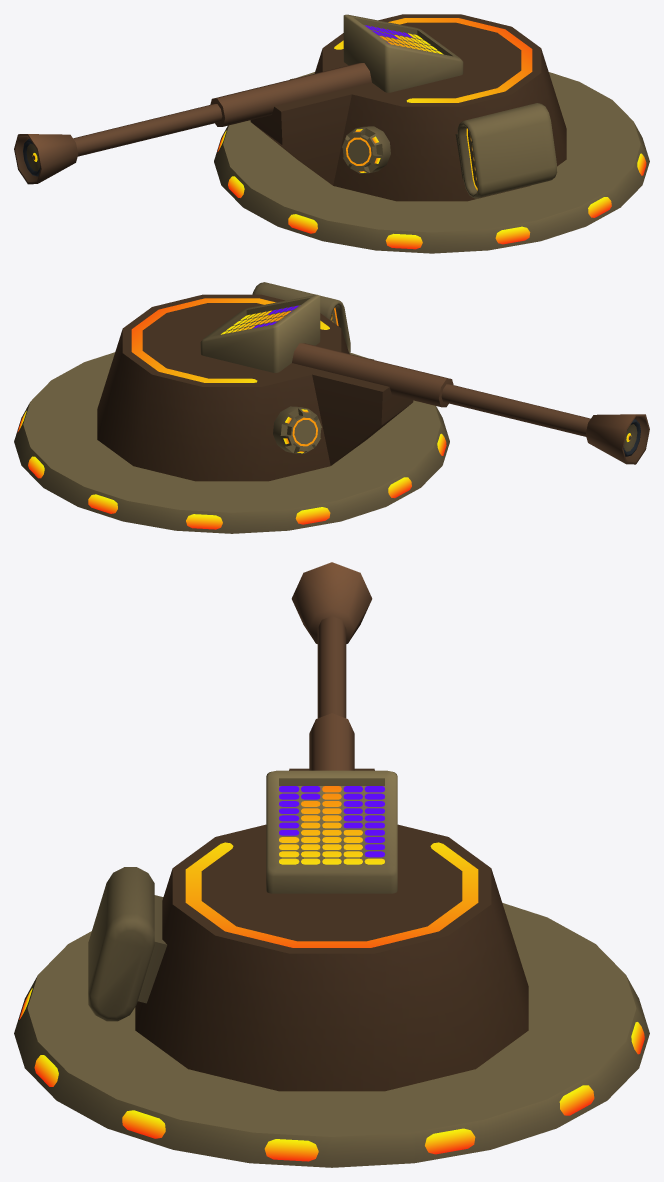
The model's file is yellow_01.fbx.
The picture shows the model from 3 angles, top to bottom: view 1: azimuth 30°, elevation 25°; view 2: azimuth 150°, elevation 25°; view 3: azimuth 270°, elevation 25°; orthographic projection. The views are drawn at different scales.
Visible parts, largest first — view 1: Circle.017, yellow_01; view 2: Circle.017, yellow_01; view 3: Circle.017, yellow_01.
Boxes of the visible parts, box(x1,y1,x2,y2) form: Circle.017: box(14, 14, 566, 201); yellow_01: box(214, 72, 649, 253); Circle.017: box(97, 282, 649, 481); yellow_01: box(14, 352, 449, 533); Circle.017: box(88, 562, 528, 1091); yellow_01: box(14, 903, 649, 1167).
Bounding box in the file's own units: 807 × 192 × 514.
